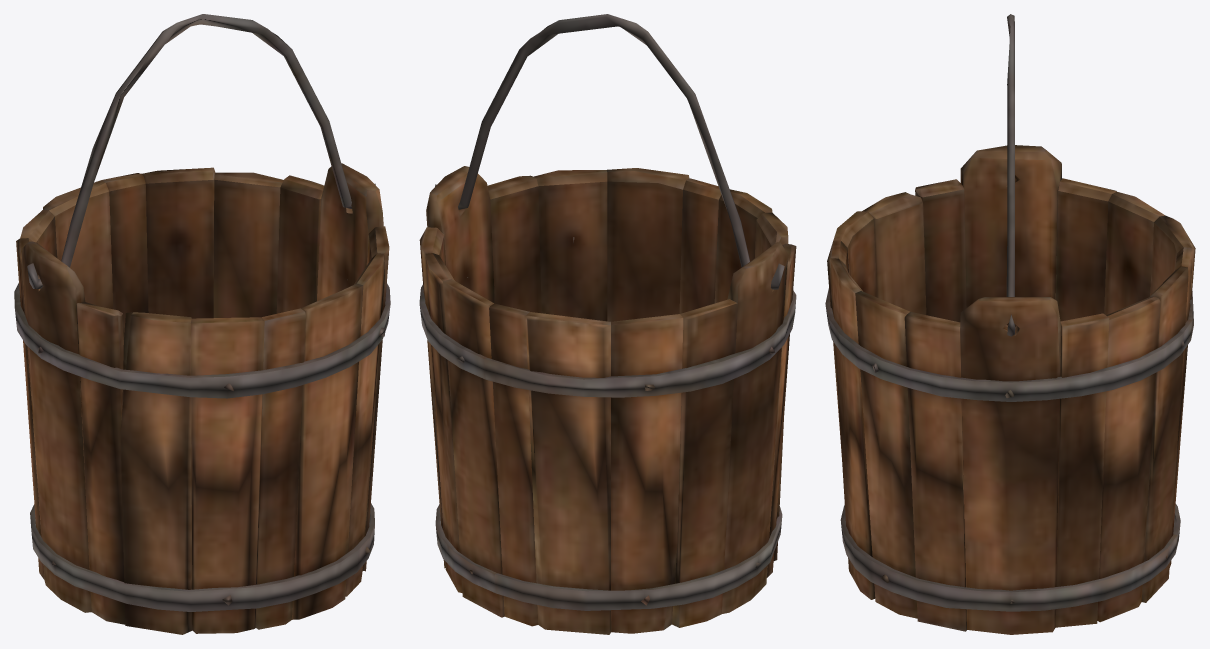
The model's file is wooden_bucket_01.gltf.
3 renders of one model, left to right at view 1: azimuth 30°, elevation 25°; view 2: azimuth 150°, elevation 25°; view 3: azimuth 270°, elevation 25°, orthographic.
Parts seen in each view (by area): view 1: wooden_bucket_01, wooden_bucket_01_handle; view 2: wooden_bucket_01, wooden_bucket_01_handle; view 3: wooden_bucket_01, wooden_bucket_01_handle.
Part boxes in pixels (<box>): wooden_bucket_01: <box>14,163,390,634</box>; wooden_bucket_01_handle: <box>27,14,375,288</box>; wooden_bucket_01: <box>419,166,796,634</box>; wooden_bucket_01_handle: <box>435,14,784,289</box>; wooden_bucket_01: <box>825,145,1195,634</box>; wooden_bucket_01_handle: <box>1006,14,1015,336</box>.
Bounding box in the file's own units: 0.3647 × 0.5493 × 0.3407.
Materials: 1 (1 with a texture image).
